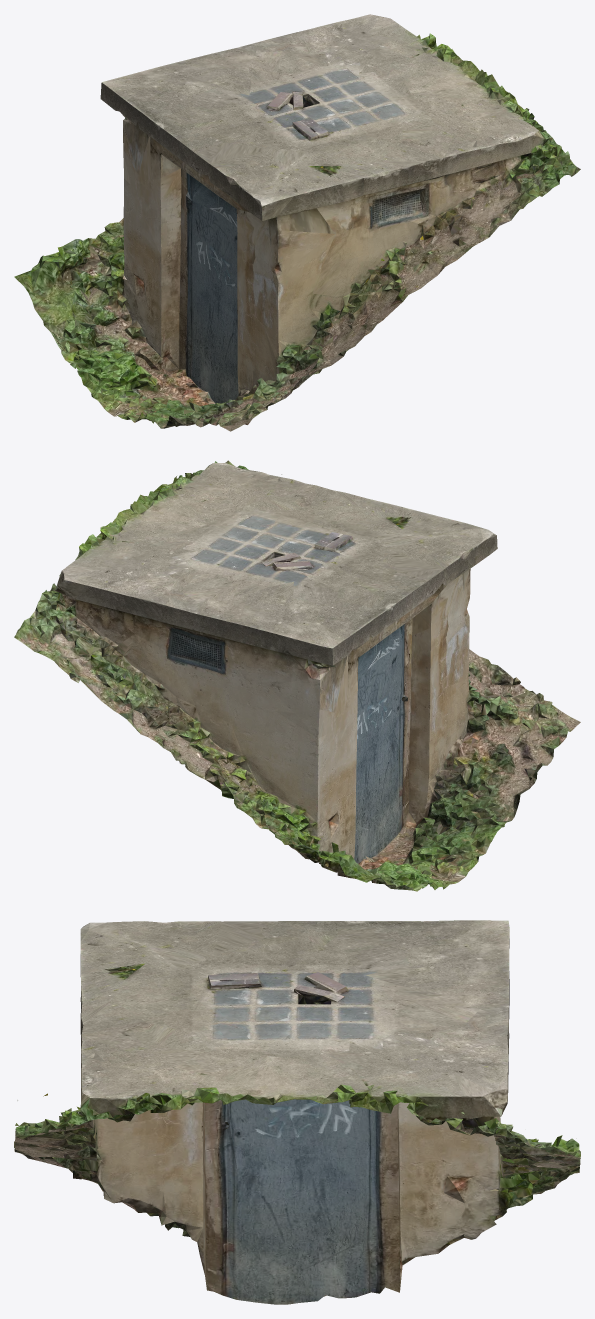
Rendered from booth_ruin.glb.
3 renders of one model, top to bottom at view 1: azimuth 30°, elevation 25°; view 2: azimuth 150°, elevation 25°; view 3: azimuth 270°, elevation 25°, orthographic. The views are drawn at different scales.
Visible parts, largest first — view 1: booth_ruin; view 2: booth_ruin; view 3: booth_ruin.
Part boxes in pixels (bbox=[...]): booth_ruin: bbox=[14, 14, 580, 431]; booth_ruin: bbox=[14, 460, 580, 891]; booth_ruin: bbox=[14, 920, 580, 1304].
Bounding box in the file's own units: 2.72 × 2.12 × 2.89.
1 material, 1 textured.
